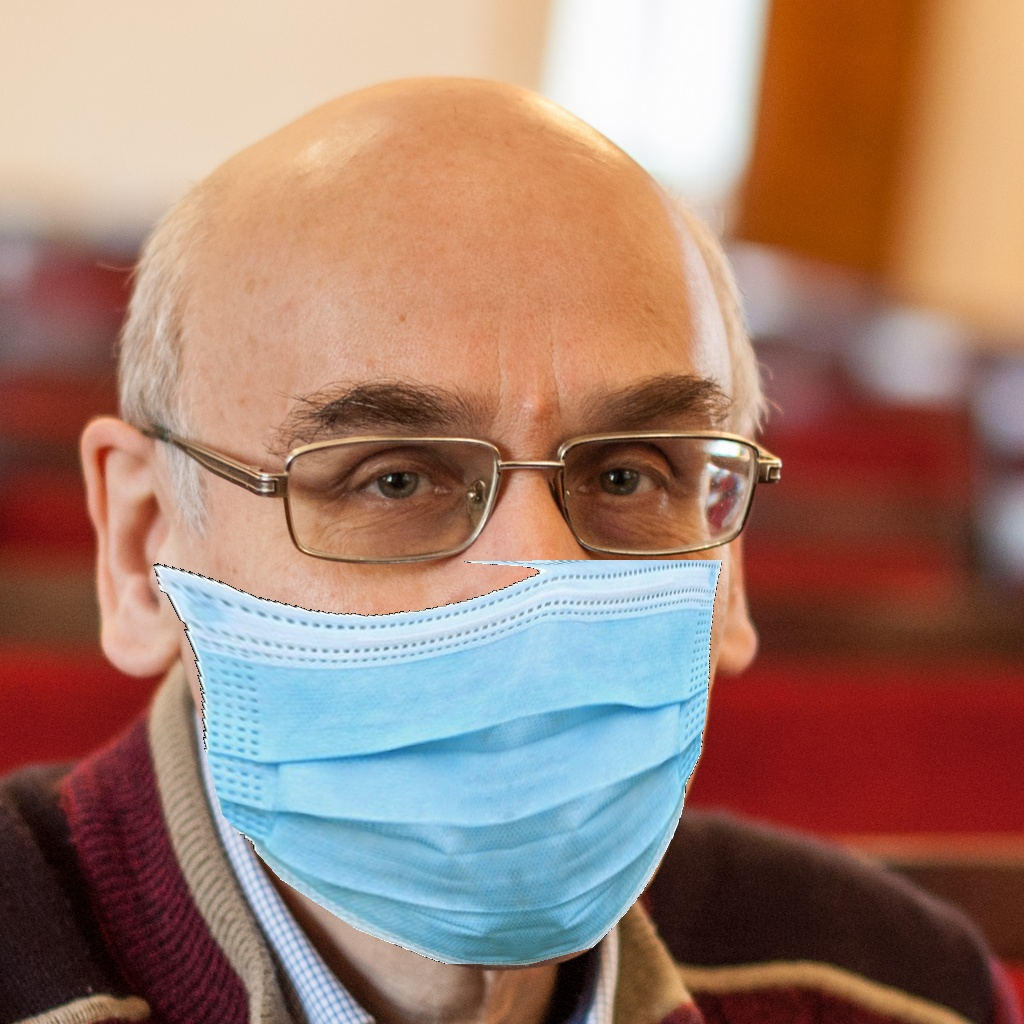with_mask: (171, 388, 754, 970)
